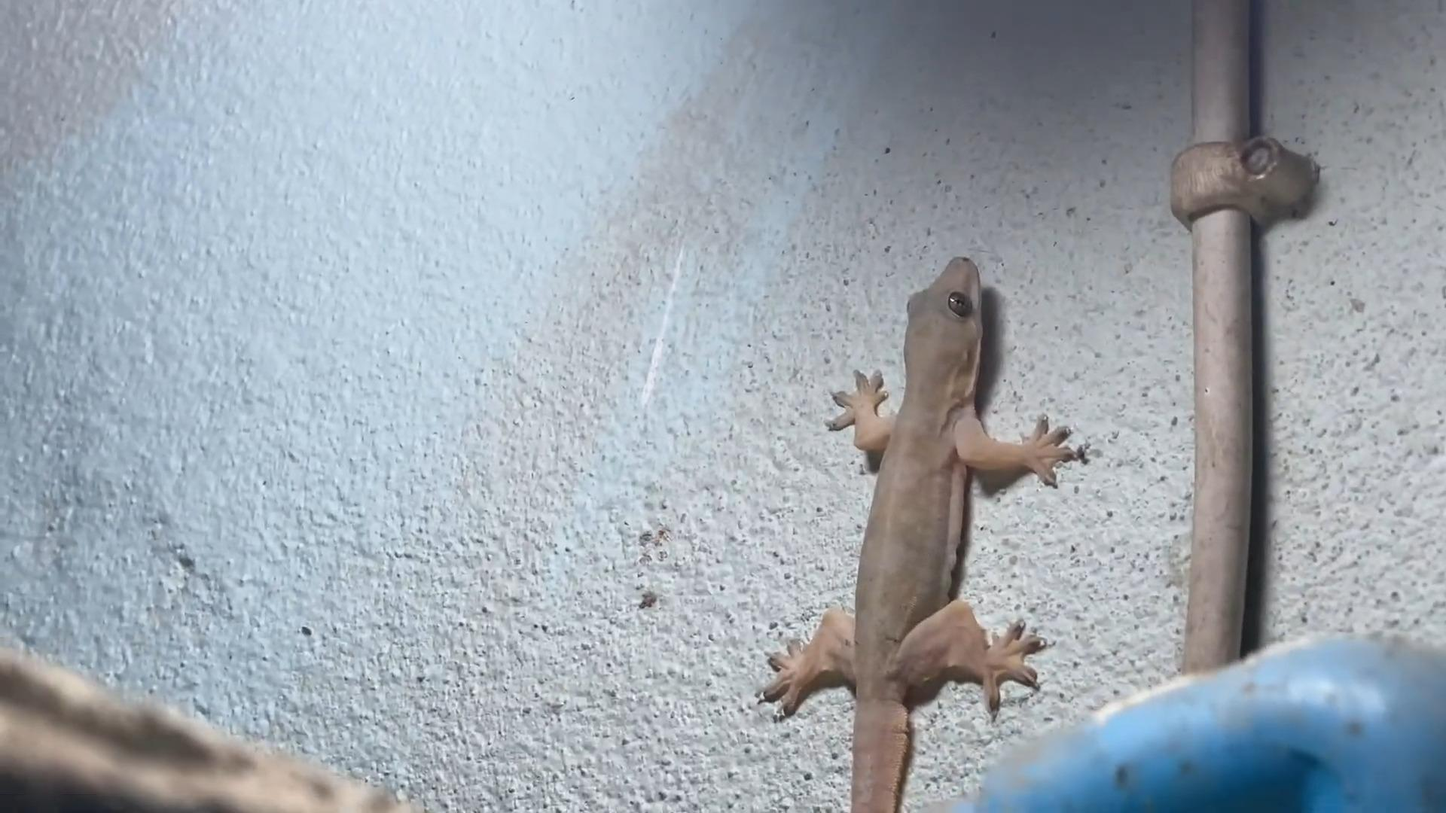lizard: (787, 241, 1082, 721)
